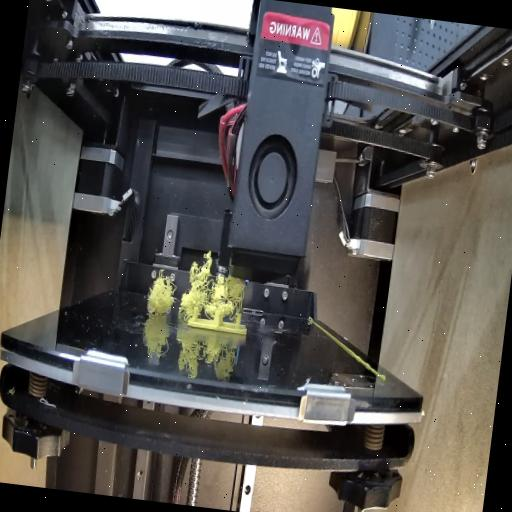spaghetti: (178, 244, 248, 325), (143, 274, 179, 319)
